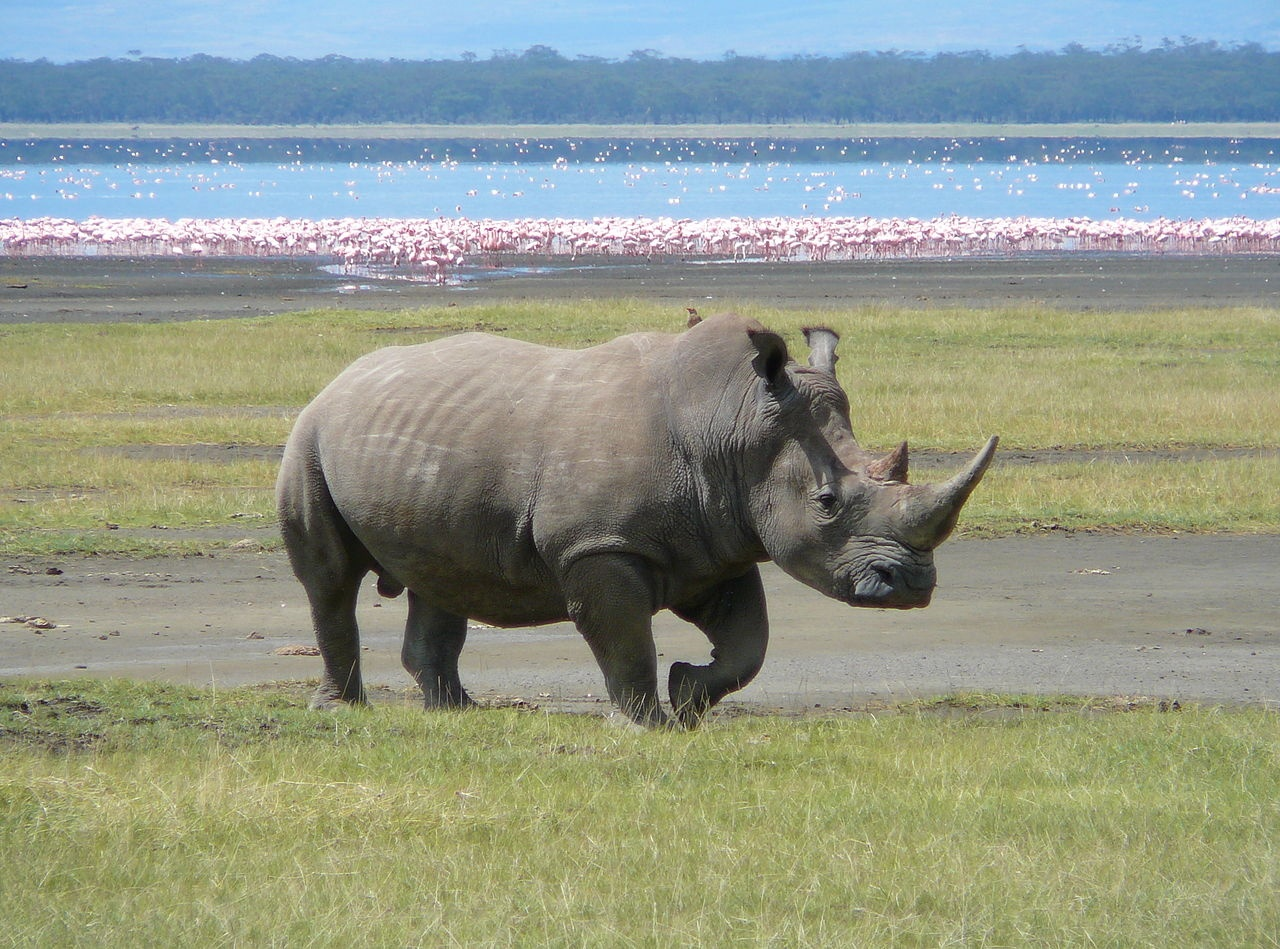rhino: (636, 521, 1280, 949)
